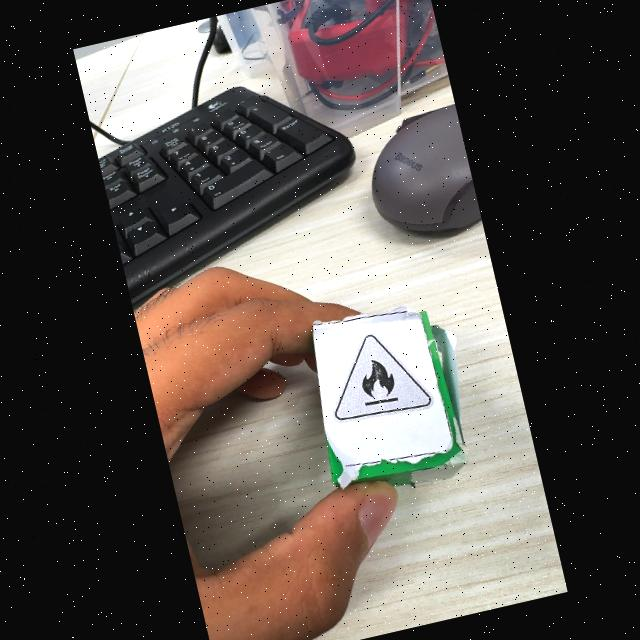Fire: (334, 334, 432, 420)
